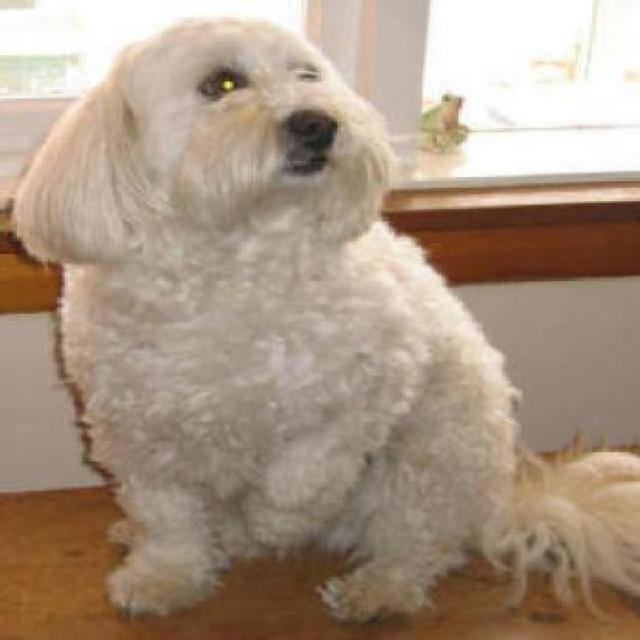Dog: (12, 11, 637, 623)
